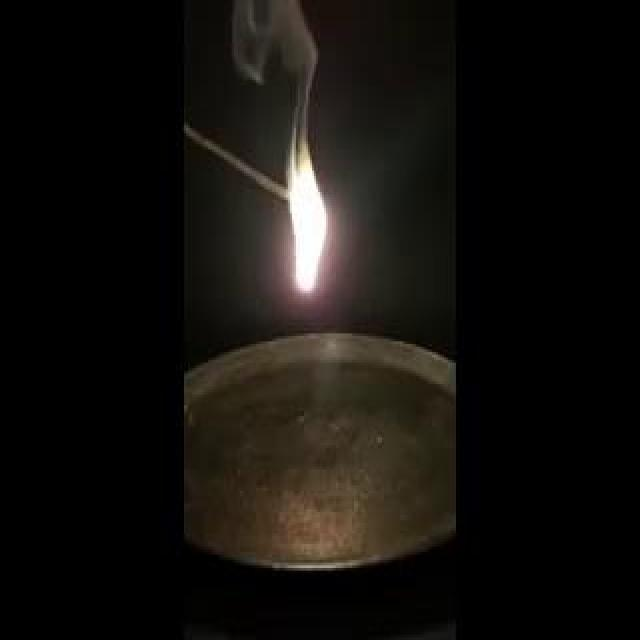Fire: (64, 184, 303, 262)
